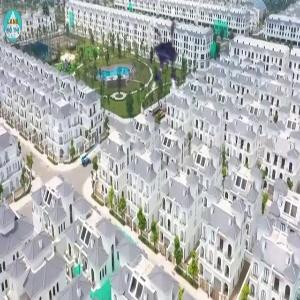drone: (131, 11, 222, 102)
